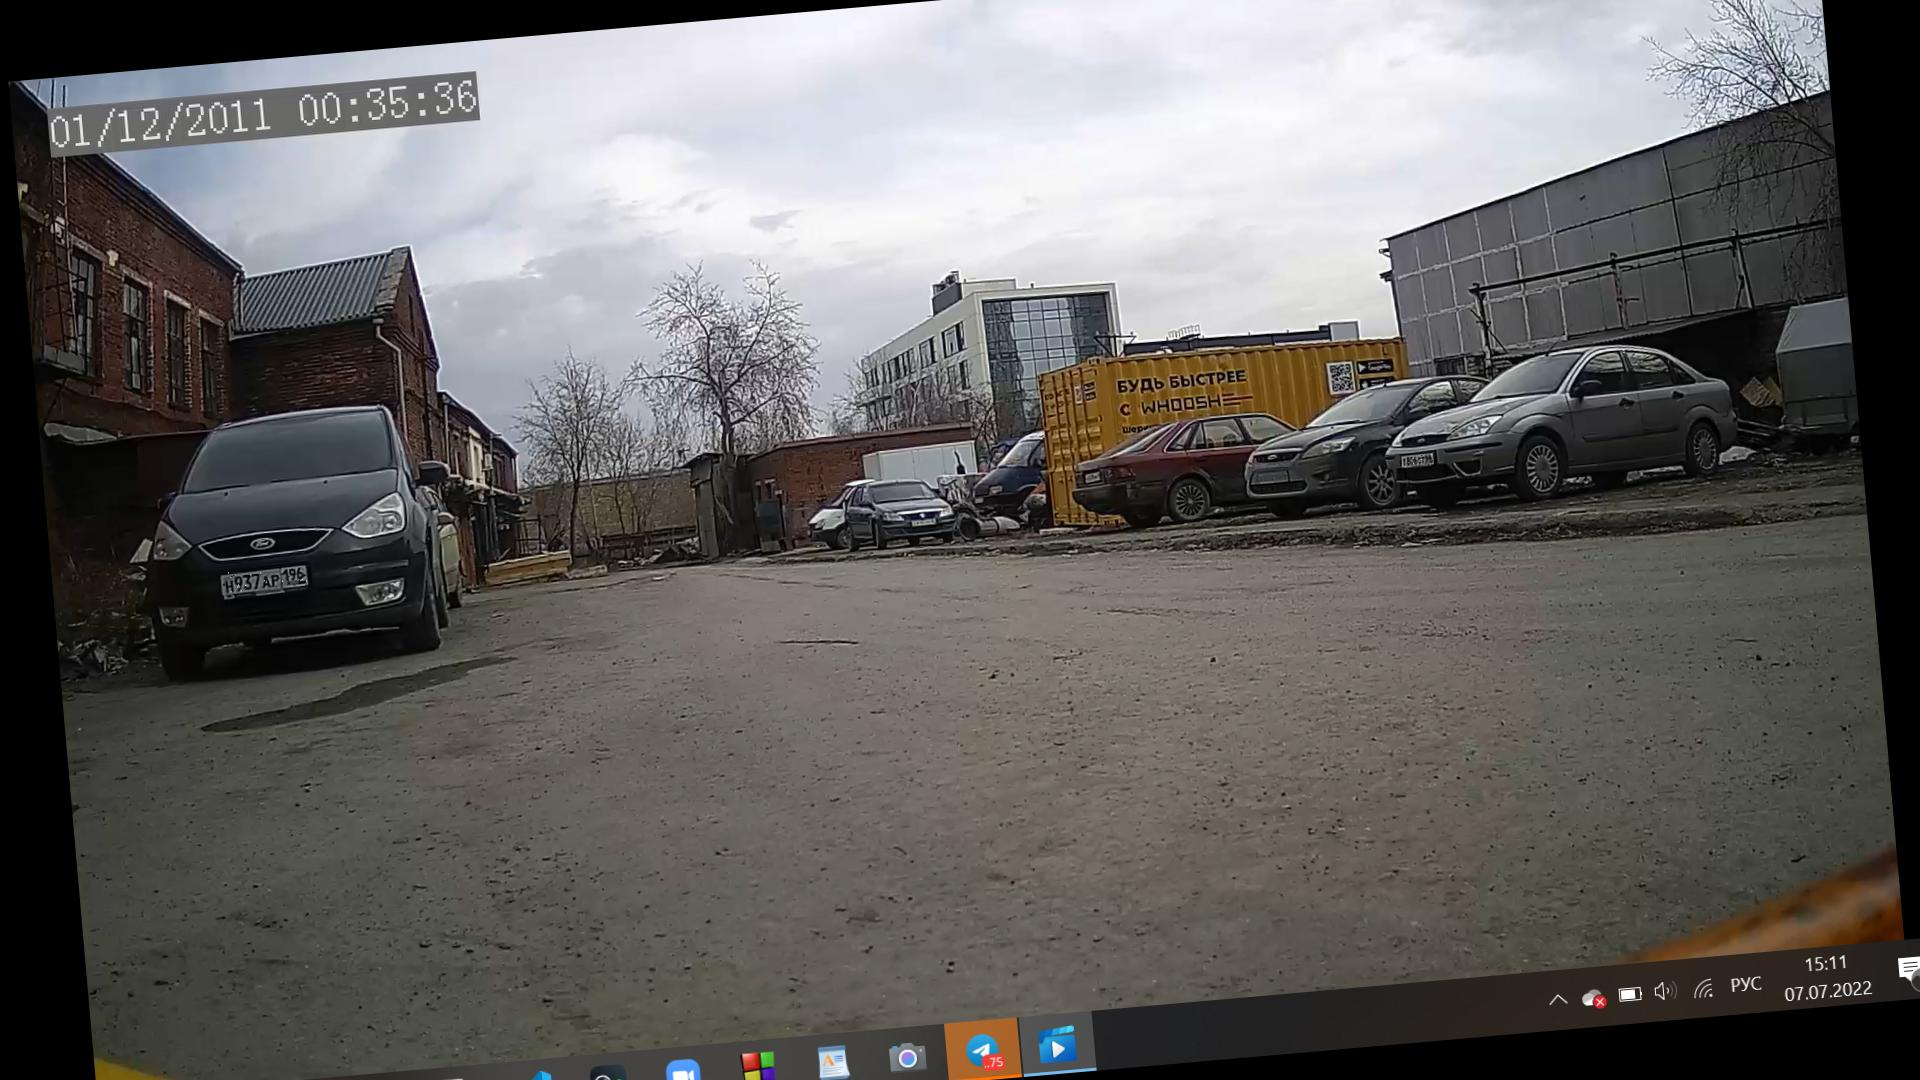plate: (222, 565, 312, 597), (1403, 453, 1438, 468)
